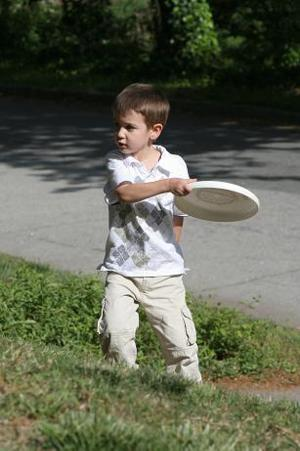person: (99, 83, 203, 384)
